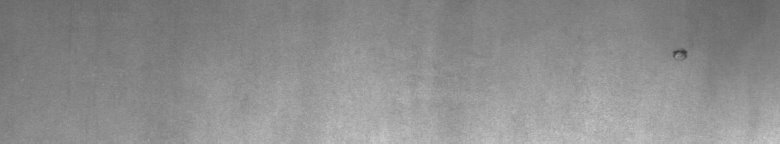fi: (672, 40, 691, 64)
